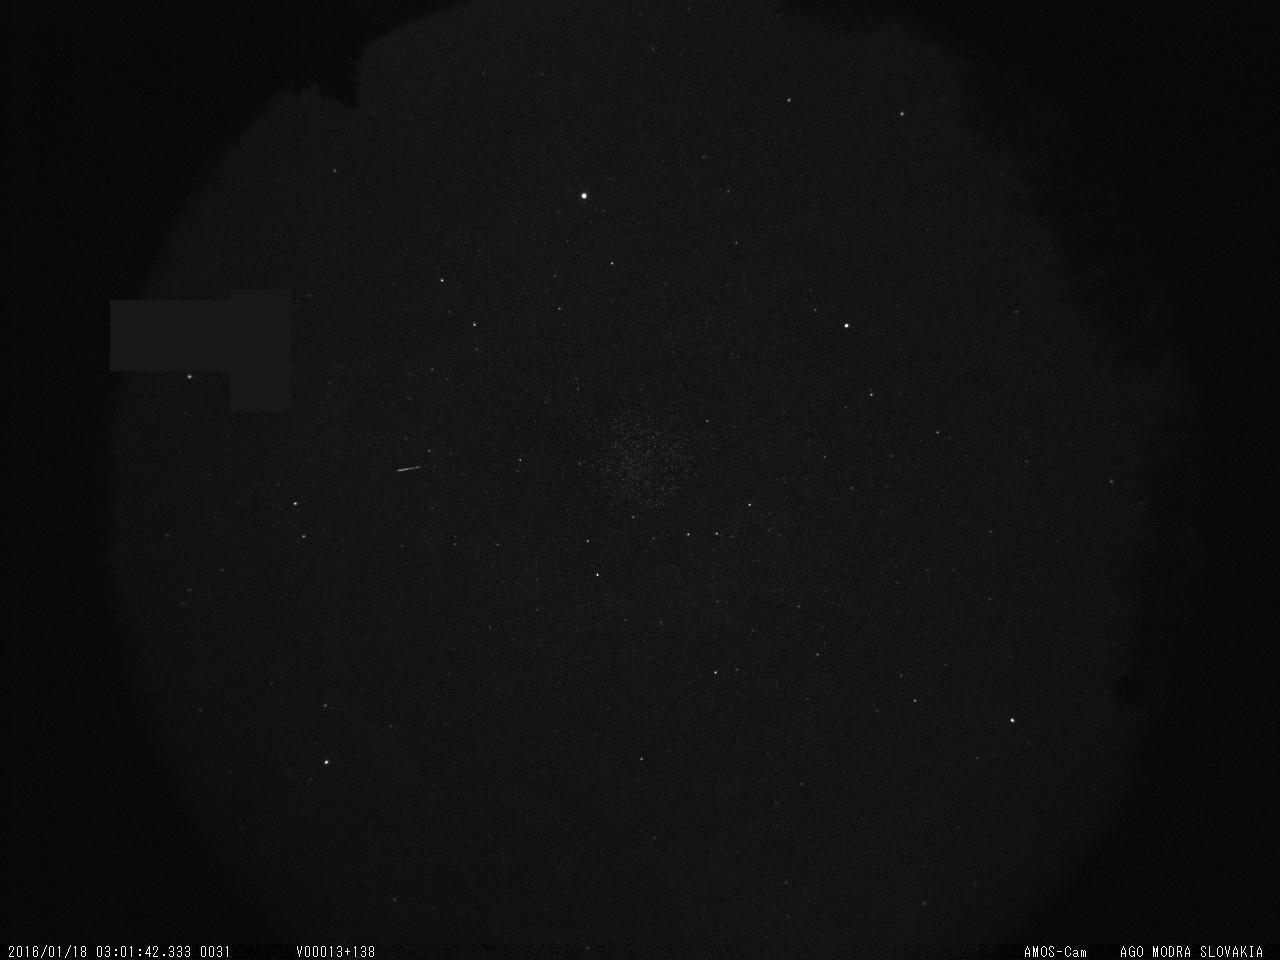Meteor: (384, 458, 437, 482)
